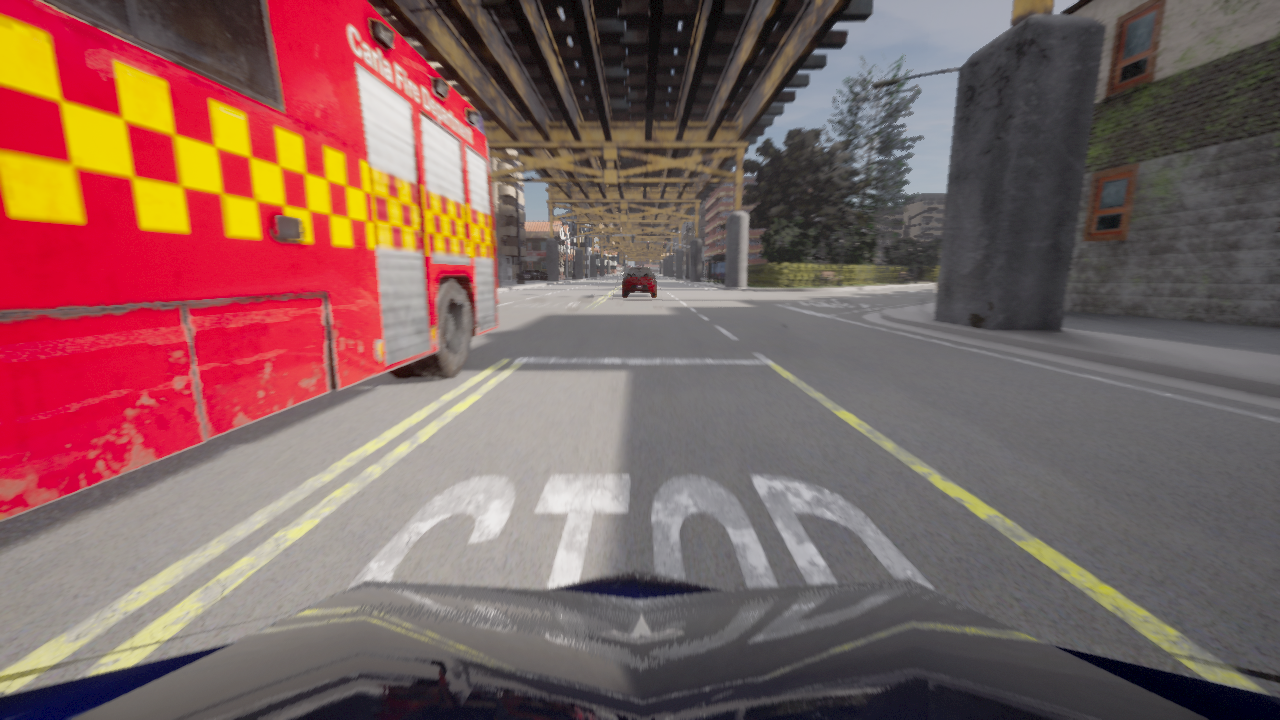cyclist: (0, 569, 1279, 719), (623, 268, 655, 296), (515, 271, 545, 279), (535, 271, 546, 279)
